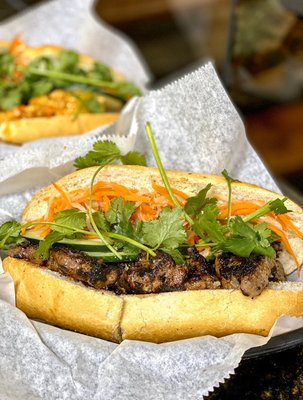soup: (1, 163, 303, 345)
